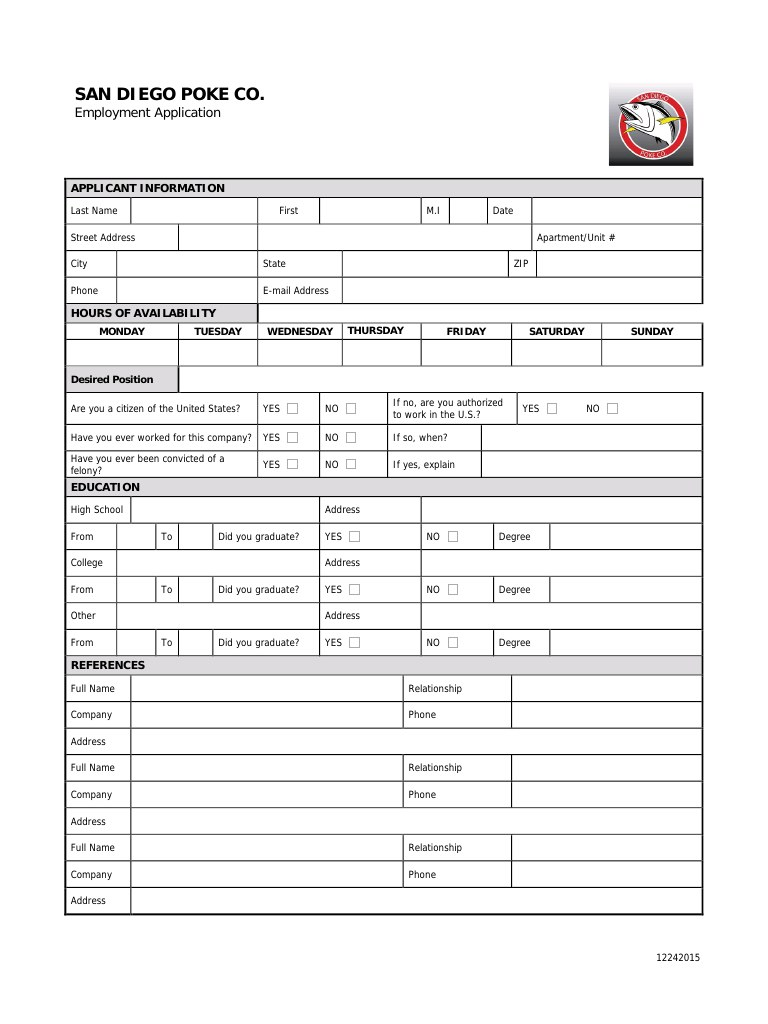table: (65, 179, 705, 913)
